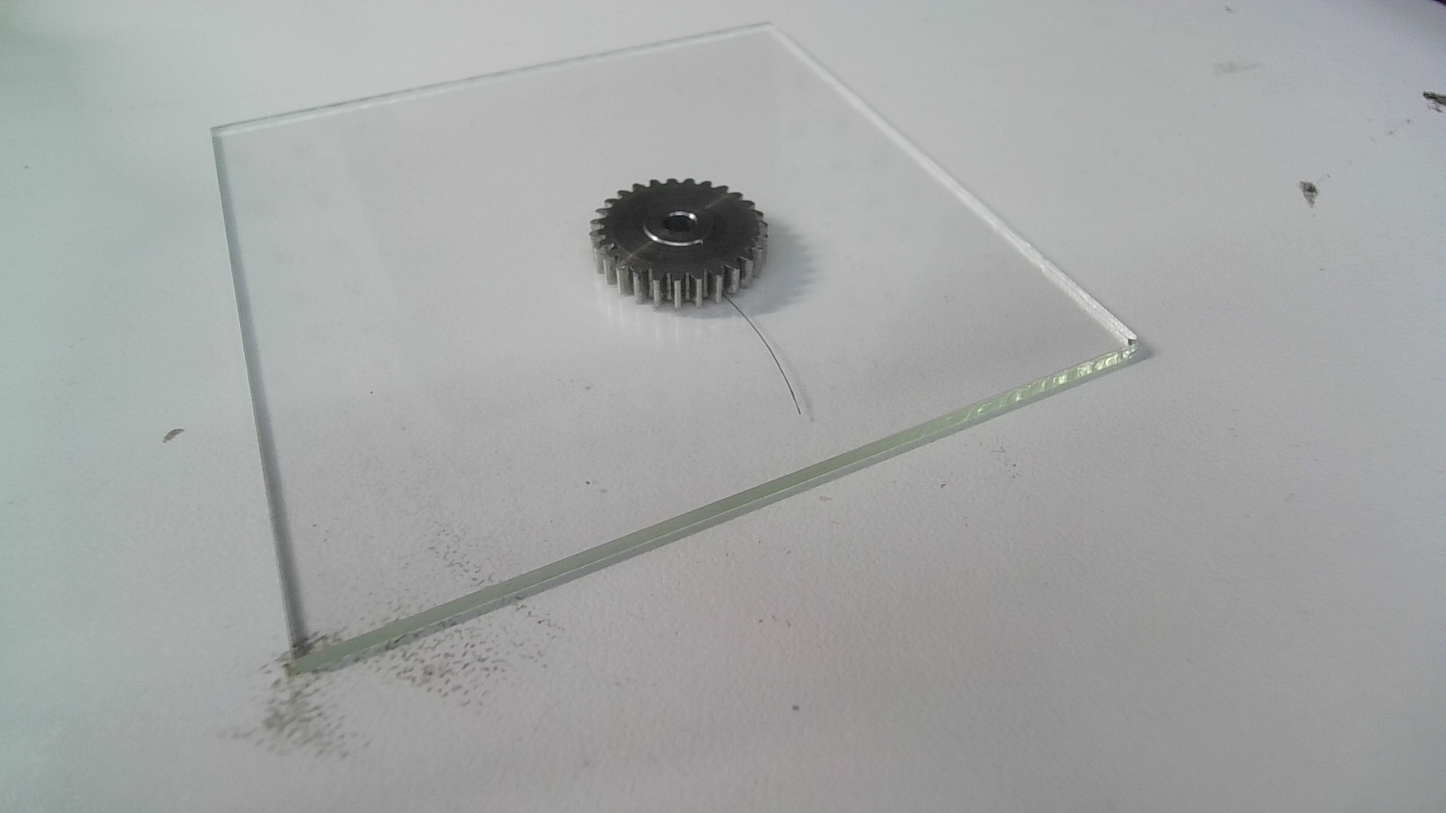gear: (590, 177, 772, 312)
